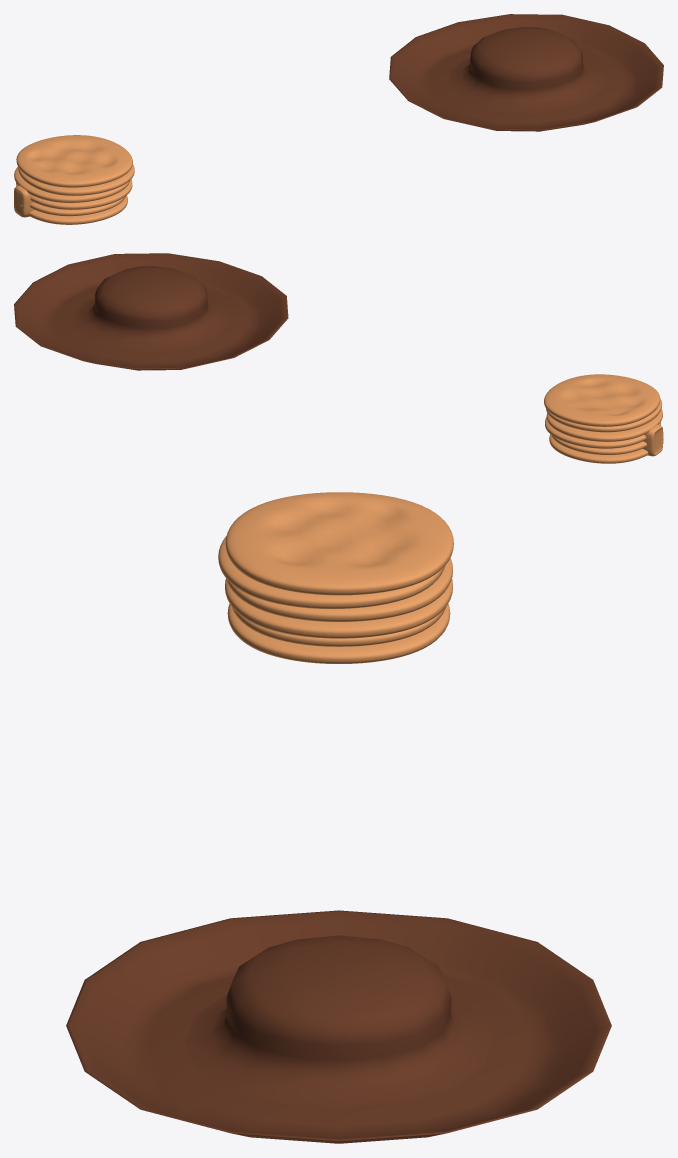
File: van alles en nog wat2.fbx
3 views of the same model, one above another, from view 1: azimuth 30°, elevation 25°; view 2: azimuth 150°, elevation 25°; view 3: azimuth 270°, elevation 25° (orthographic). The views are drawn at different scales.
Parts seen in each view (by area): view 1: Cube.004, Cube; view 2: Cube.004, Cube; view 3: Cube.004, Cube.
Boxes of the visible parts, x1=… form: Cube.004: x1=389, y1=14, x2=663, y2=131; Cube: x1=14, y1=135, x2=134, y2=224; Cube.004: x1=14, y1=253, x2=288, y2=370; Cube: x1=544, y1=374, x2=663, y2=463; Cube.004: x1=66, y1=910, x2=611, y2=1143; Cube: x1=218, y1=492, x2=453, y2=663.
Bounding box in the file's own units: 1186 × 95.27 × 447.
